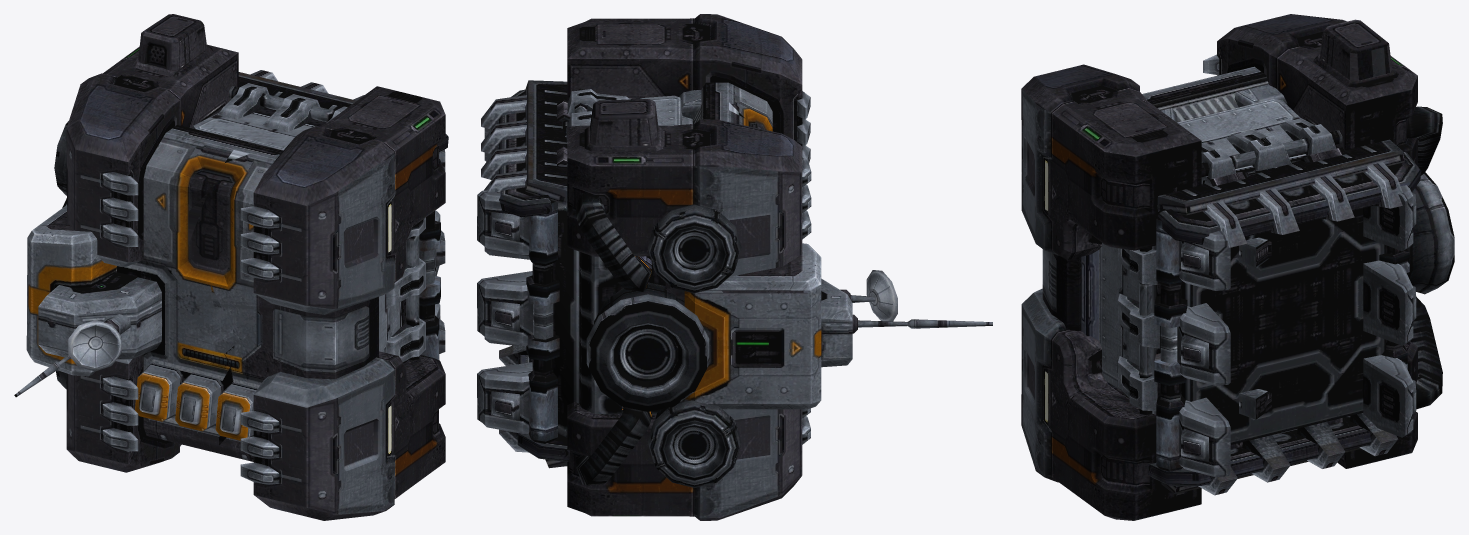
The model's file is charcrashingfactory.fbx.
The picture shows the model from 3 angles, left to right: view 1: azimuth 30°, elevation 25°; view 2: azimuth 150°, elevation 25°; view 3: azimuth 270°, elevation 25°; orthographic projection. The views are drawn at different scales.
Visible parts, largest first — view 1: Geoset_0; view 2: Geoset_0; view 3: Geoset_0.
Part boxes in pixels (left/top/right/bottom): Geoset_0: left=14, top=14, right=448, bottom=520; Geoset_0: left=477, top=14, right=992, bottom=520; Geoset_0: left=1021, top=14, right=1454, bottom=520.
Bounding box in the file's own units: 4.44 × 3.61 × 3.41.
1 material, 1 textured.
